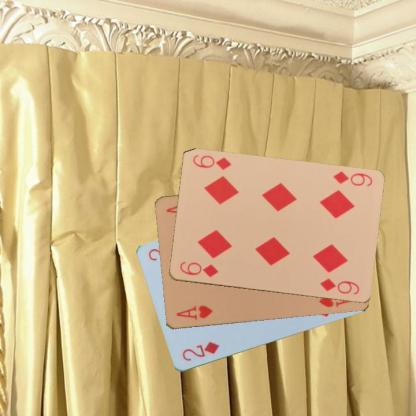2d: (179, 339, 221, 363)
6d: (176, 259, 219, 278), (330, 168, 373, 187)
Ah: (174, 303, 214, 321)
